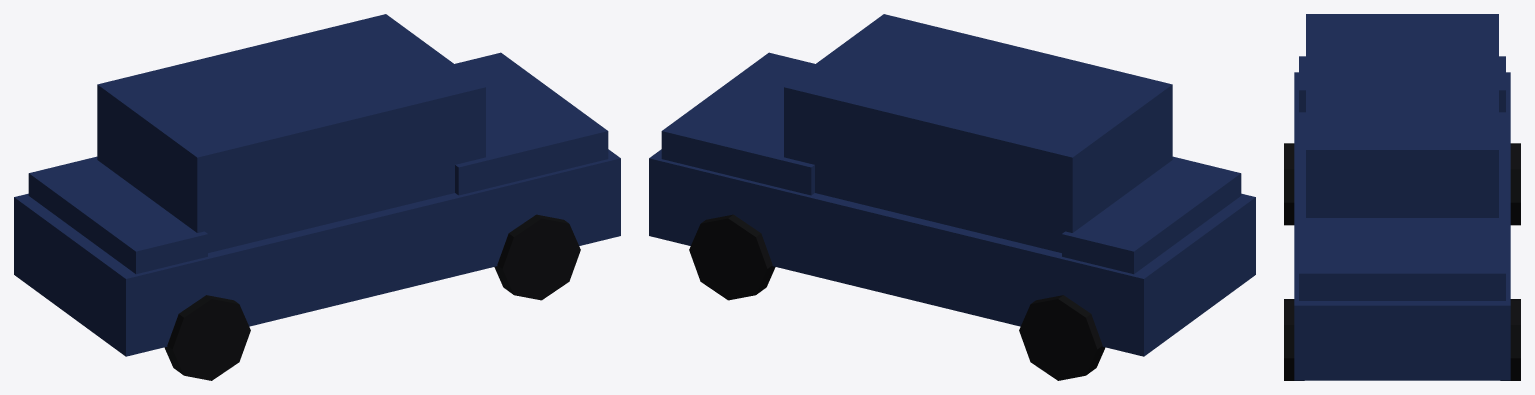
Rendered from proxy_suv_blue.dae.
3 views of the same model, side by side, from view 1: azimuth 30°, elevation 25°; view 2: azimuth 150°, elevation 25°; view 3: azimuth 270°, elevation 25° (orthographic). The views are drawn at different scales.
Visible parts, largest first — view 1: proxy_suv; view 2: proxy_suv; view 3: proxy_suv.
Boxes of the visible parts, x1=… form: proxy_suv: x1=14, y1=14, x2=620, y2=380; proxy_suv: x1=649, y1=14, x2=1255, y2=380; proxy_suv: x1=1284, y1=14, x2=1520, y2=380.
Size of the model in its own units: 4.8 by 2.06 by 2.
